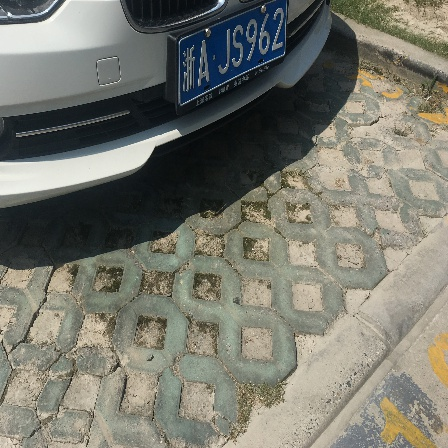plate: (176, 3, 287, 98)
